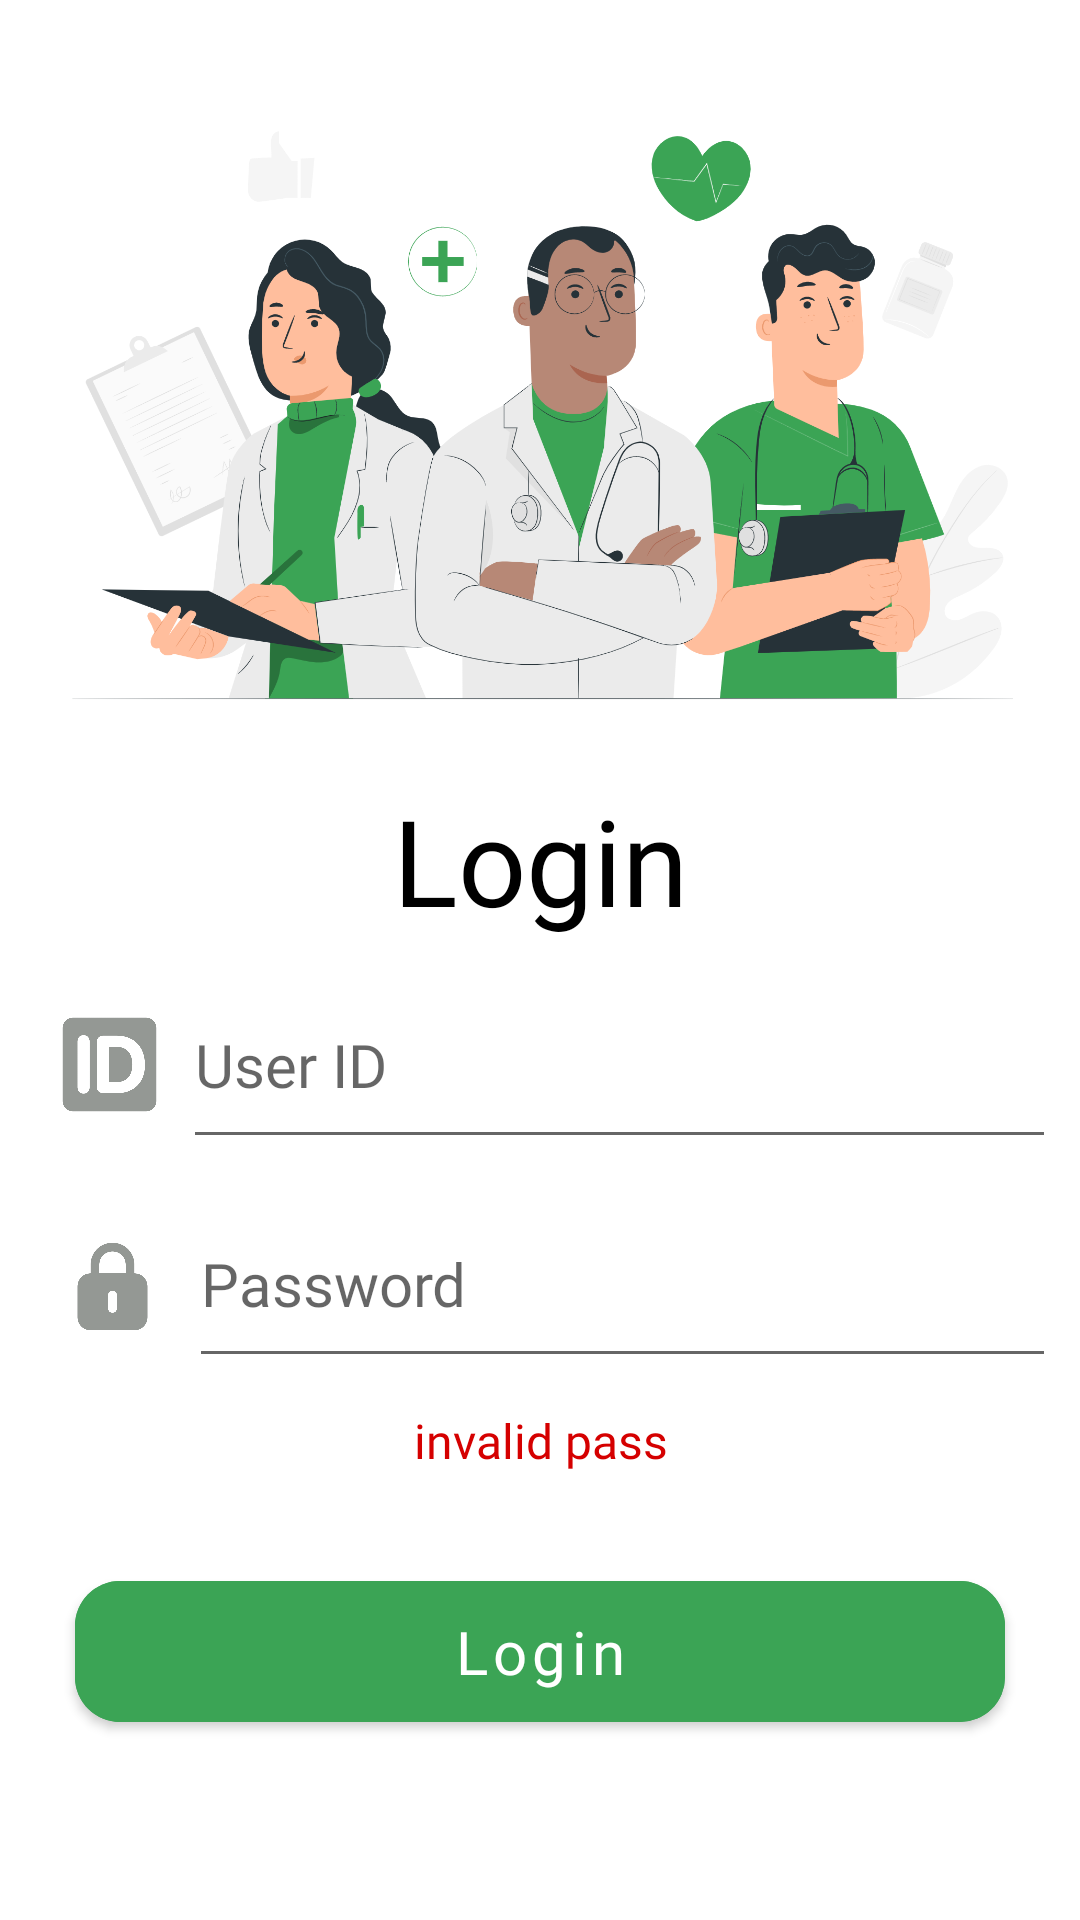

Named icons in this screenshot (1080px×1920px) and their bounding boxes, bbox(x1, y1, x2, y2):
lock: bbox(77, 1243, 148, 1330)
